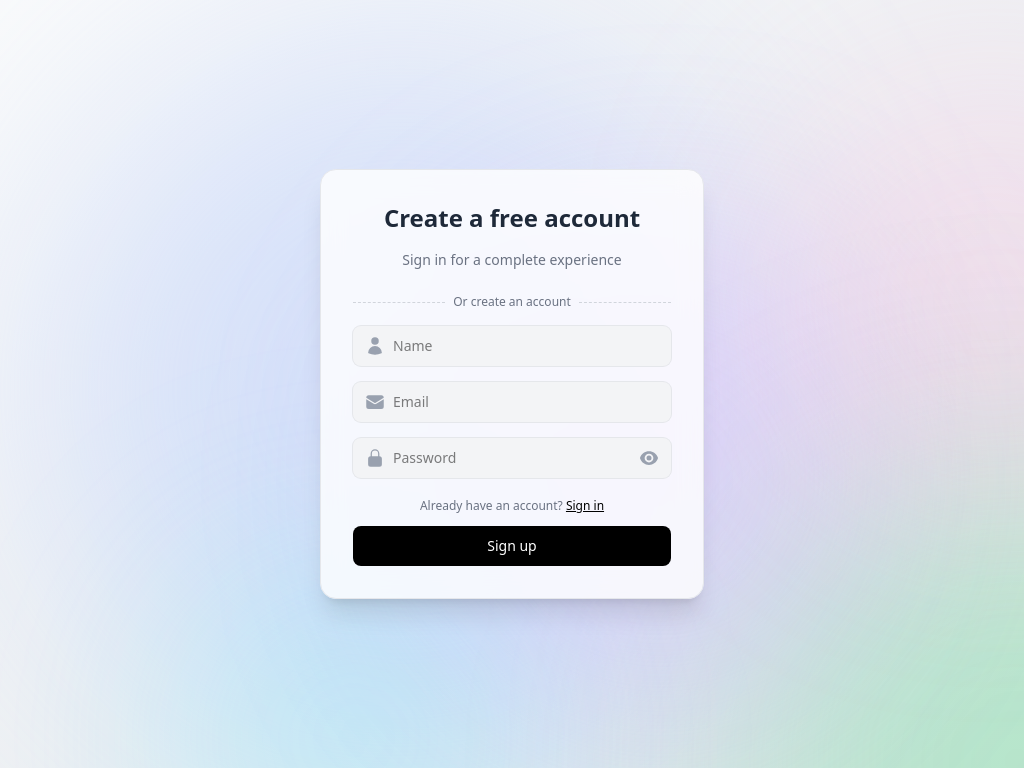
Test: CreateAccount › creates an account and shows verification notice
Type "John Doe" into the field with placeholder "Name" at (512, 346), box [353, 326, 671, 366]
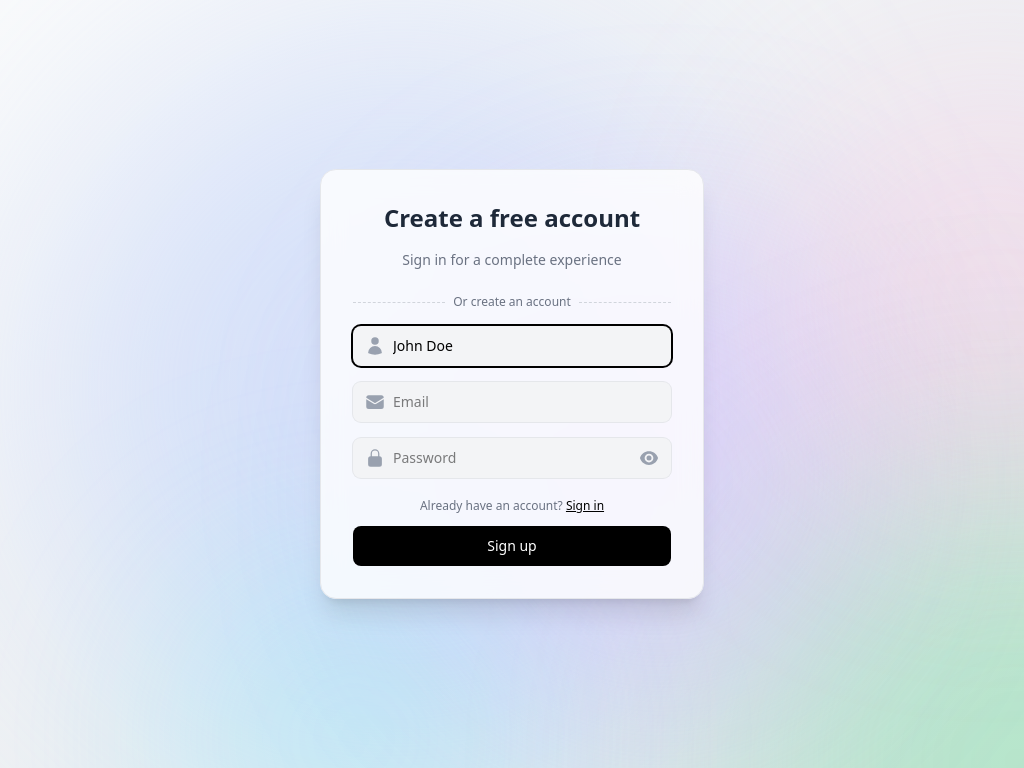
Type "john@test.com" into the field with placeholder "Email" at (512, 402), box [353, 382, 671, 422]
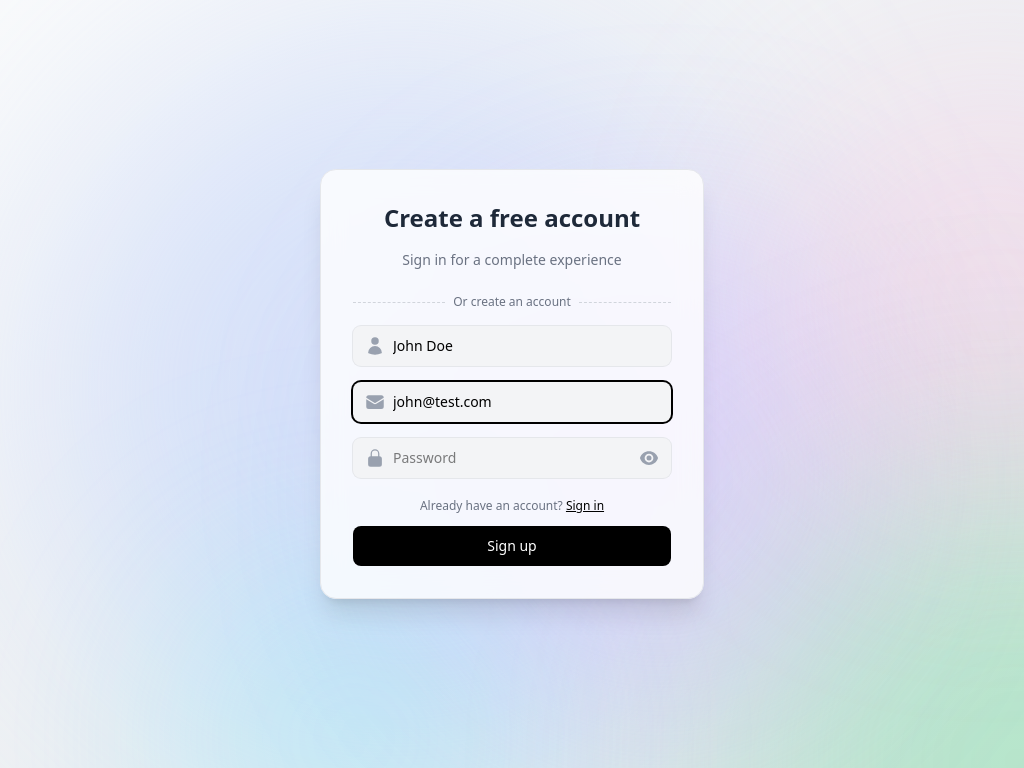
Type "Str0ng!Pass" into the password field with placeholder "Password" at (512, 458), box [353, 438, 671, 478]
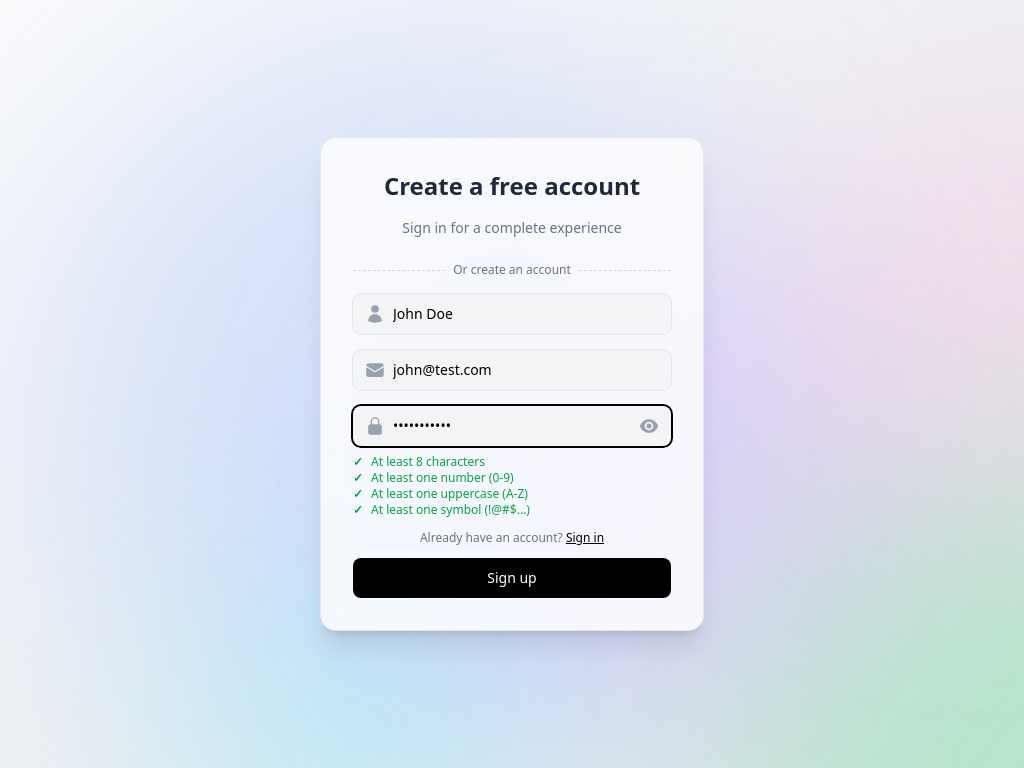
Click the button "Sign up" at (512, 578), box [353, 558, 671, 598]
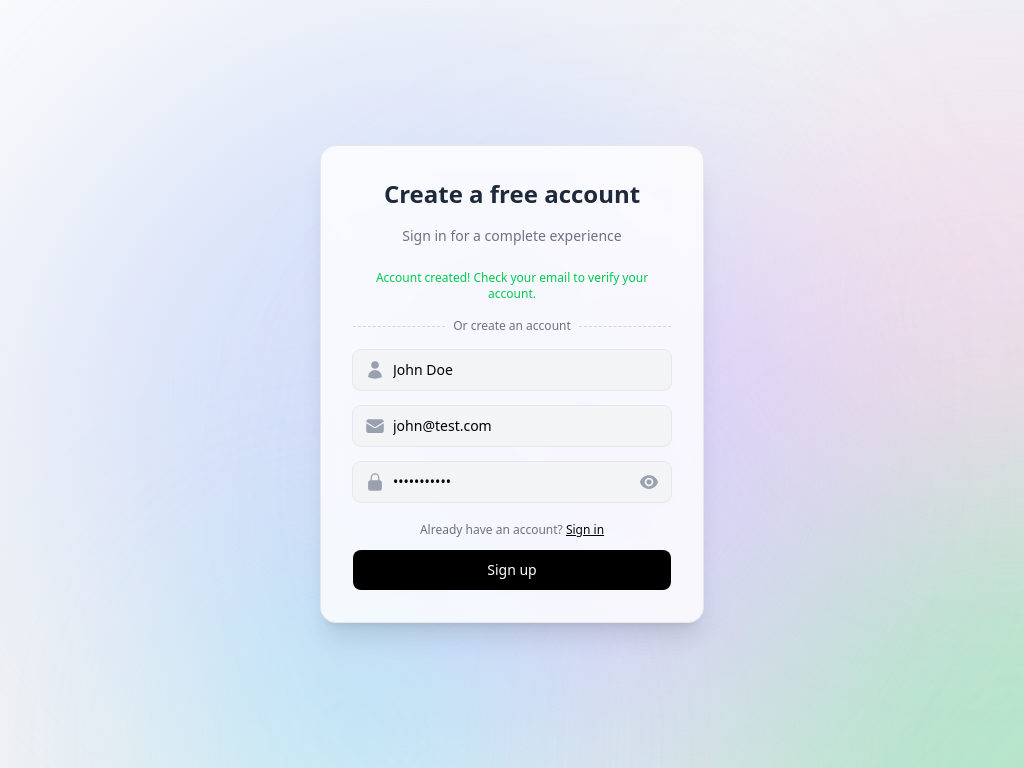
Now the text "Account created! Check your email to verify your account." is shown, box [353, 270, 671, 302]
